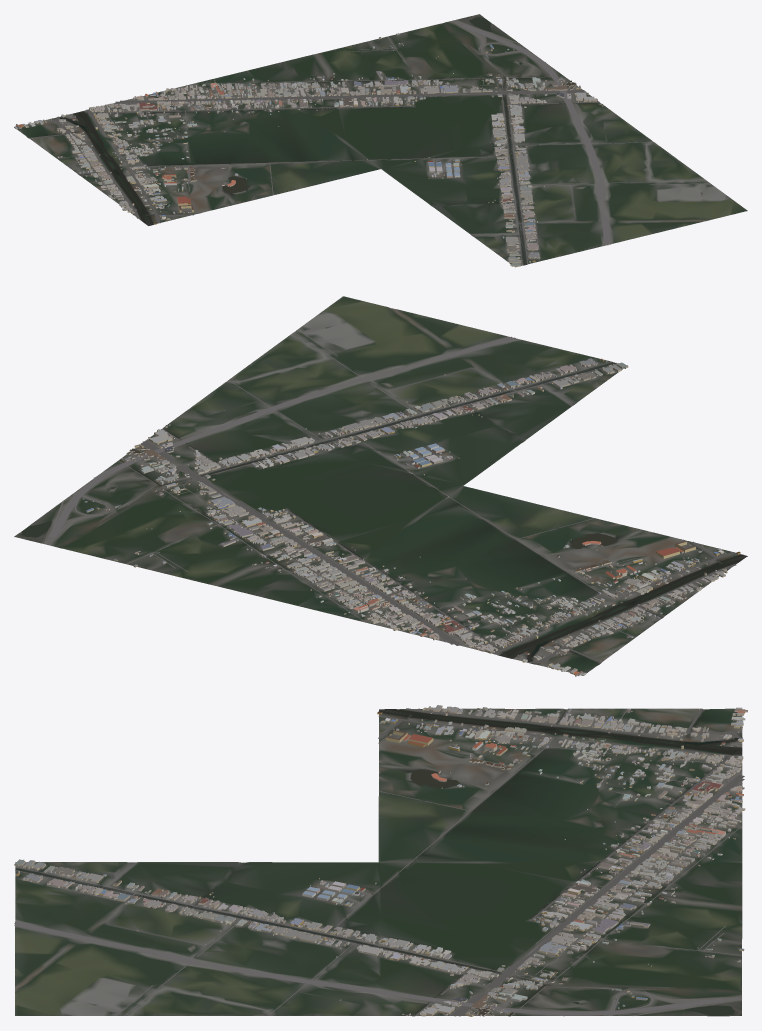
3 views of the same model, one above another, from view 1: azimuth 30°, elevation 25°; view 2: azimuth 150°, elevation 25°; view 3: azimuth 270°, elevation 25° (orthographic). The views are drawn at different scales.
Parts seen in each view (by area): view 1: ground, buildings, roads, water; view 2: ground, buildings, roads, water; view 3: ground, buildings, roads, water.
Boxes of the visible parts, left/top/right/bottom form: ground: left=17, top=14, right=747, bottom=267; buildings: left=14, top=33, right=604, bottom=266; roads: left=29, top=20, right=710, bottom=265; water: left=57, top=17, right=597, bottom=264; ground: left=14, top=296, right=747, bottom=675; buildings: left=82, top=358, right=740, bottom=676; roads: left=45, top=329, right=736, bottom=666; water: left=22, top=362, right=744, bottom=663; ground: left=15, top=708, right=742, bottom=1016; buildings: left=14, top=705, right=747, bottom=1016; roads: left=14, top=708, right=744, bottom=1016; water: left=16, top=709, right=742, bottom=1015.
Size of the model in its own units: 2831 by 21.26 by 2828.
